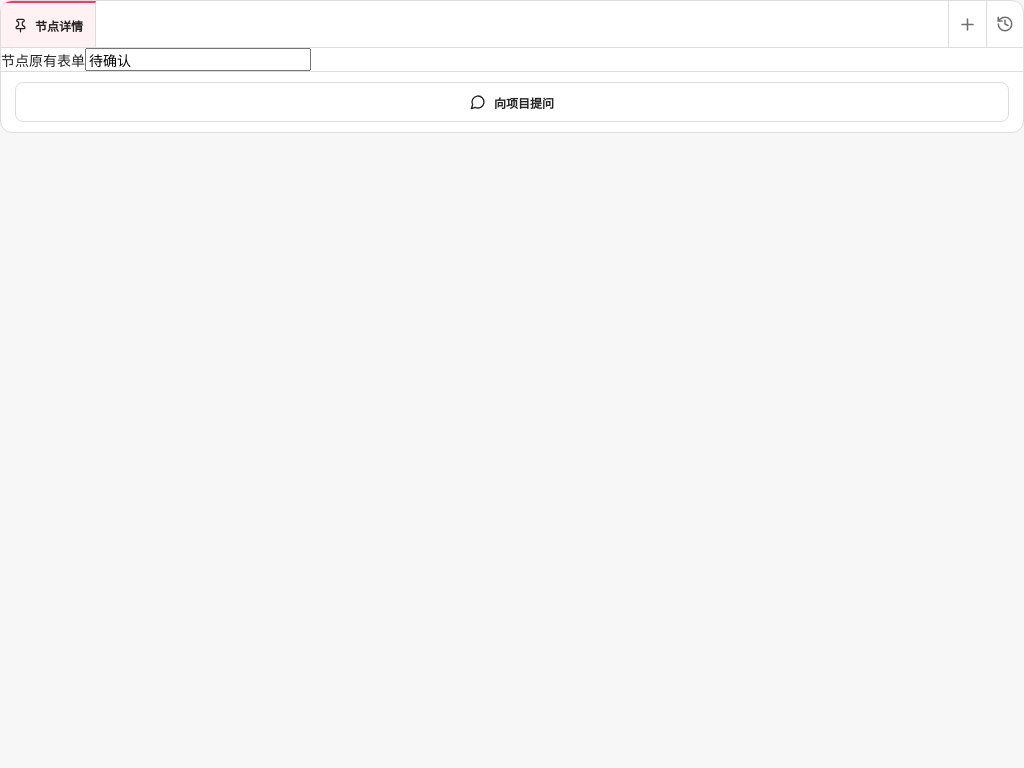
Test: workbench tabs and independent conversation interaction › shows final memory attachment identities and an unknown delivery state in conversation details
This screenshot has width=1024, height=768.
Click the button named "新建对话" at (967, 24), box 948,1 -> 986,47
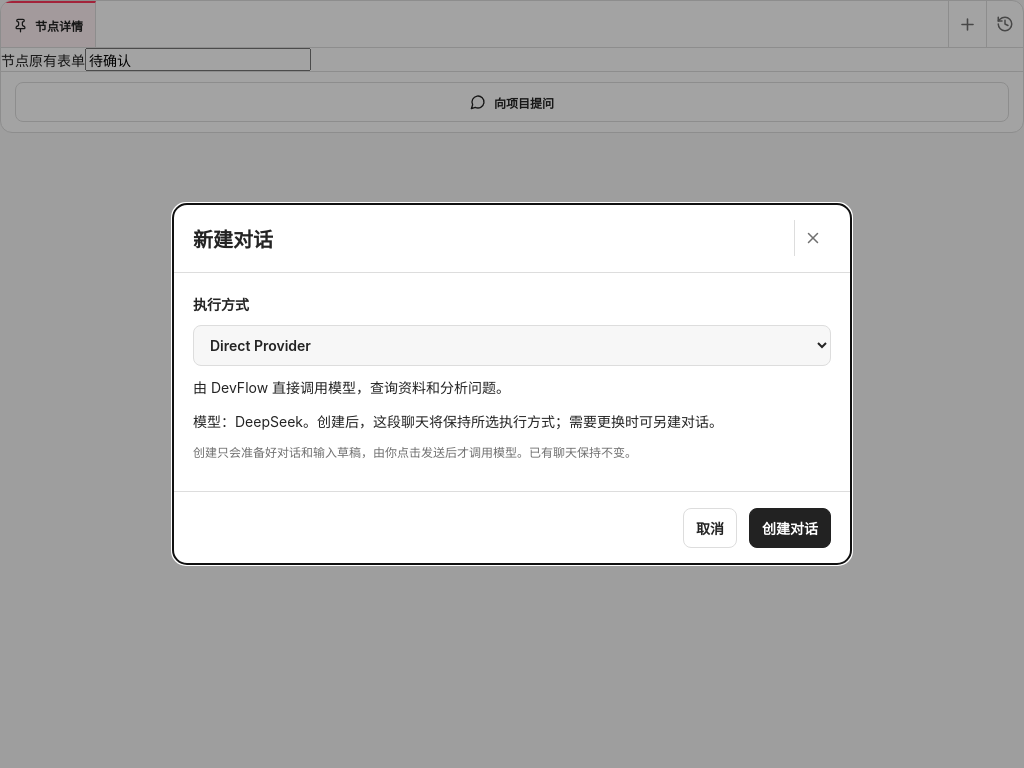
Click the button "创建对话" at (790, 528), box 749,508 -> 831,548
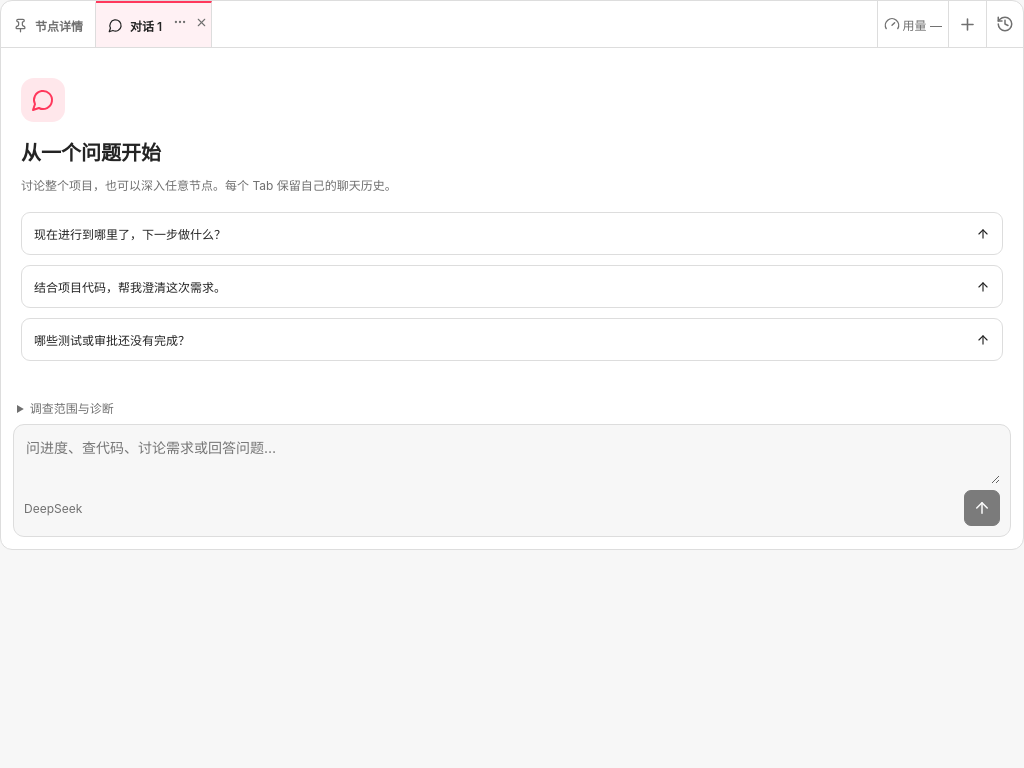
expect the tab "对话 1" is shown: met
Right-click the tab titled "对话 1" at (154, 24), box 96,1 -> 212,47
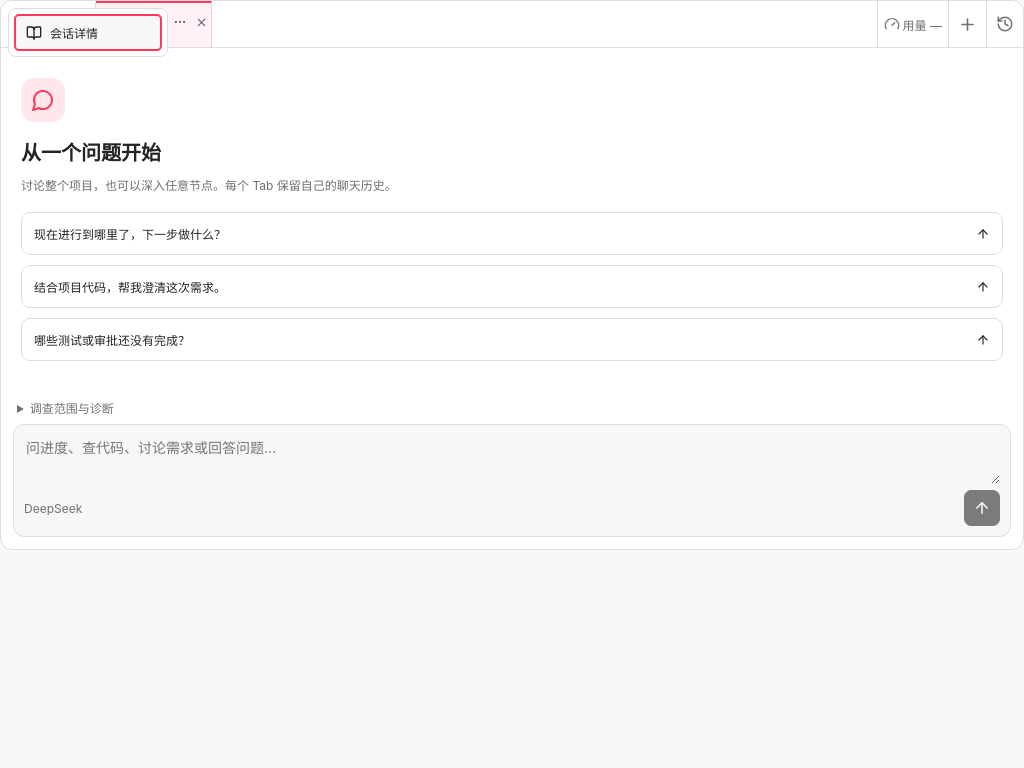
Click the menu item "会话详情" at (88, 32), box 14,14 -> 162,51
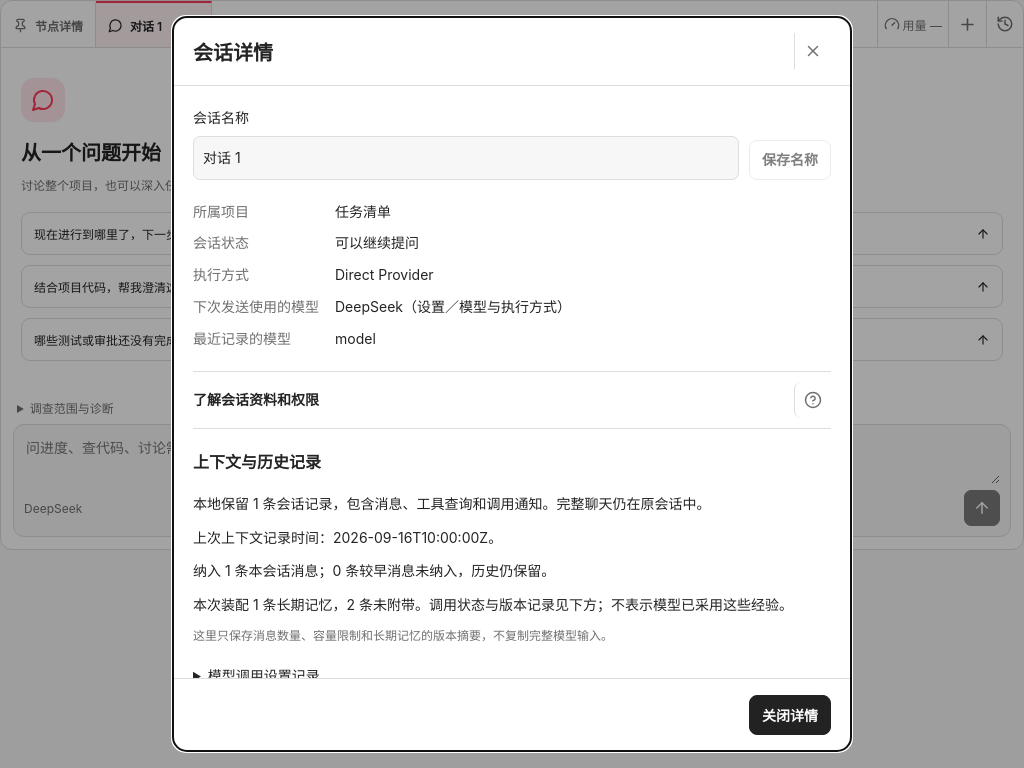
expect the text "本次装配 1 条长期记忆，2 条未附带。调用状态与版本记录见下方；不表示模型已采用这些经验。" is shown: met, box 193,593 -> 831,617
Click the heading "模型调用设置记录" at (264, 676), box 208,667 -> 320,684
(page scrolled)
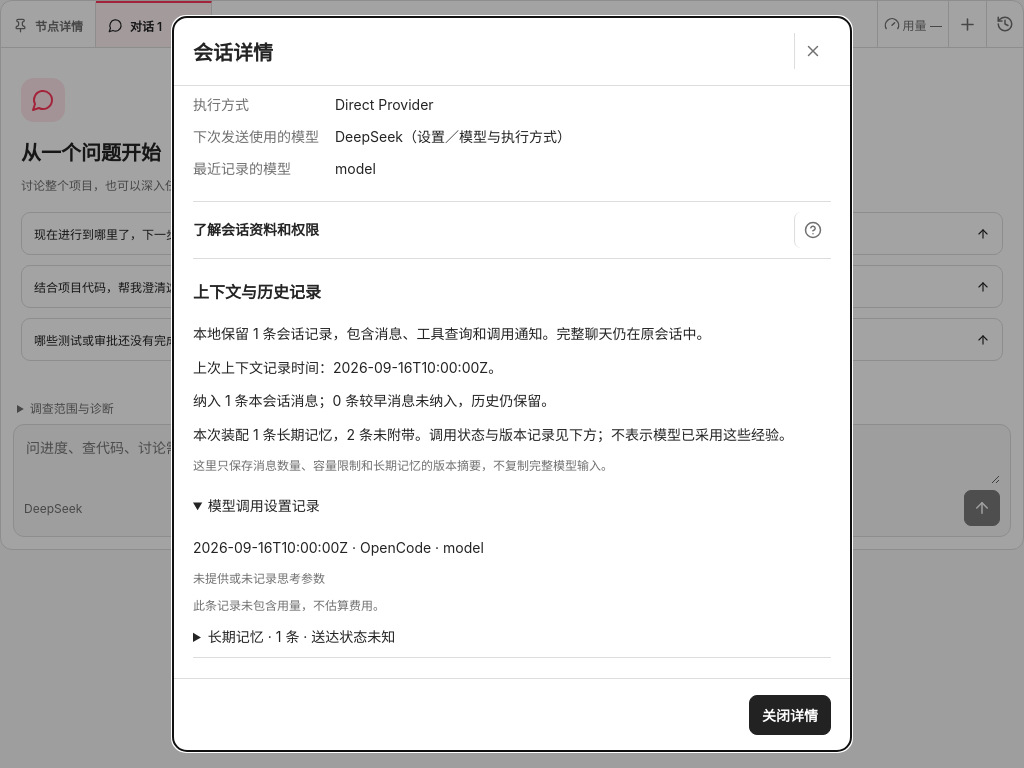
Click the heading "长期记忆 · 1 条 · 送达状态未知" at (302, 636), box 208,628 -> 395,645
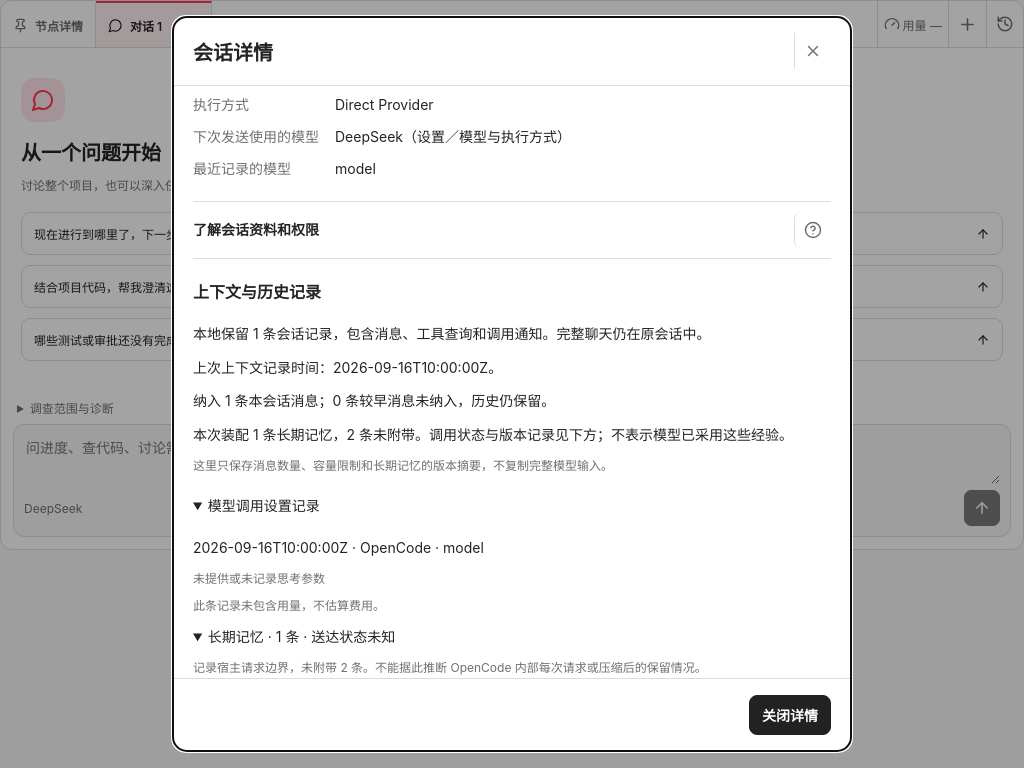
expect the text "记录宿主请求边界，未附带 2 条。不能据此推断 OpenCode 内部每次请求或压缩后的保留情况。" is shown: met, box 193,660 -> 707,674
